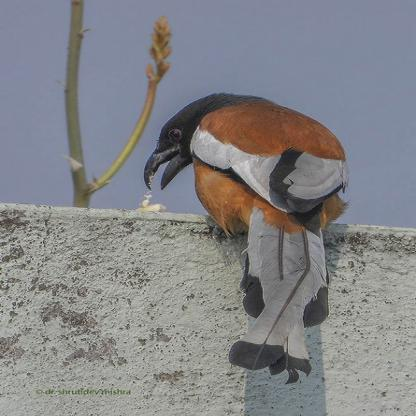Burung: (142, 93, 349, 382)
